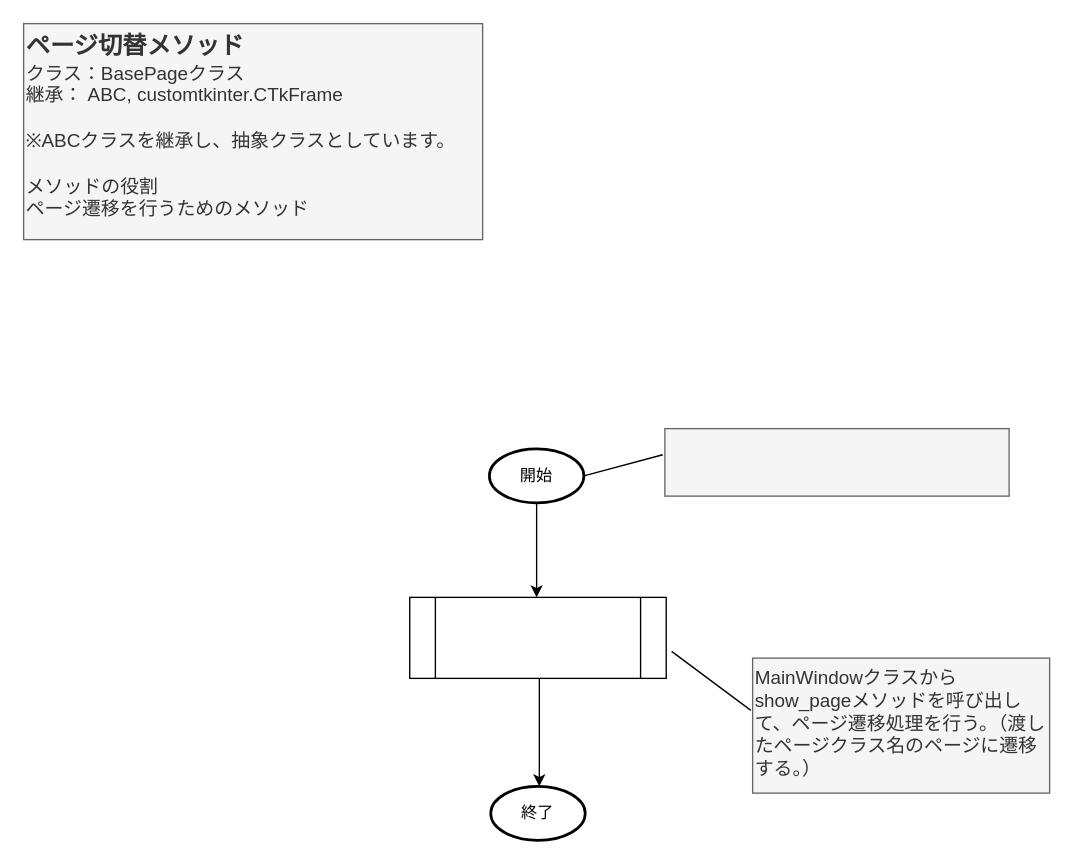
The diagram is 1073 pixels wide and 865 high, and some of its shapes have lost their labels. The box of each missing label's shape, as (x1, y1, x2, y2) in pixels:
self.master. show_page(引数２): (408, 596, 666, 678)
引数１：self 引数２：ページクラス名：str型 ,: (664, 427, 1009, 496)
